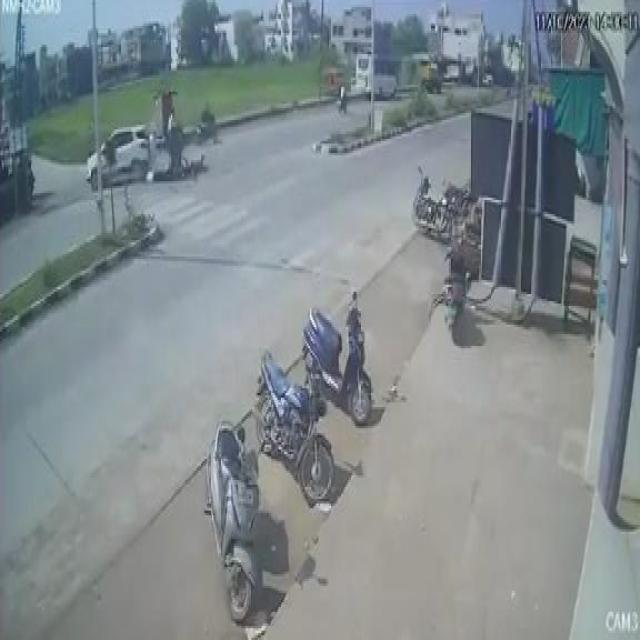accident: (83, 113, 207, 203)
